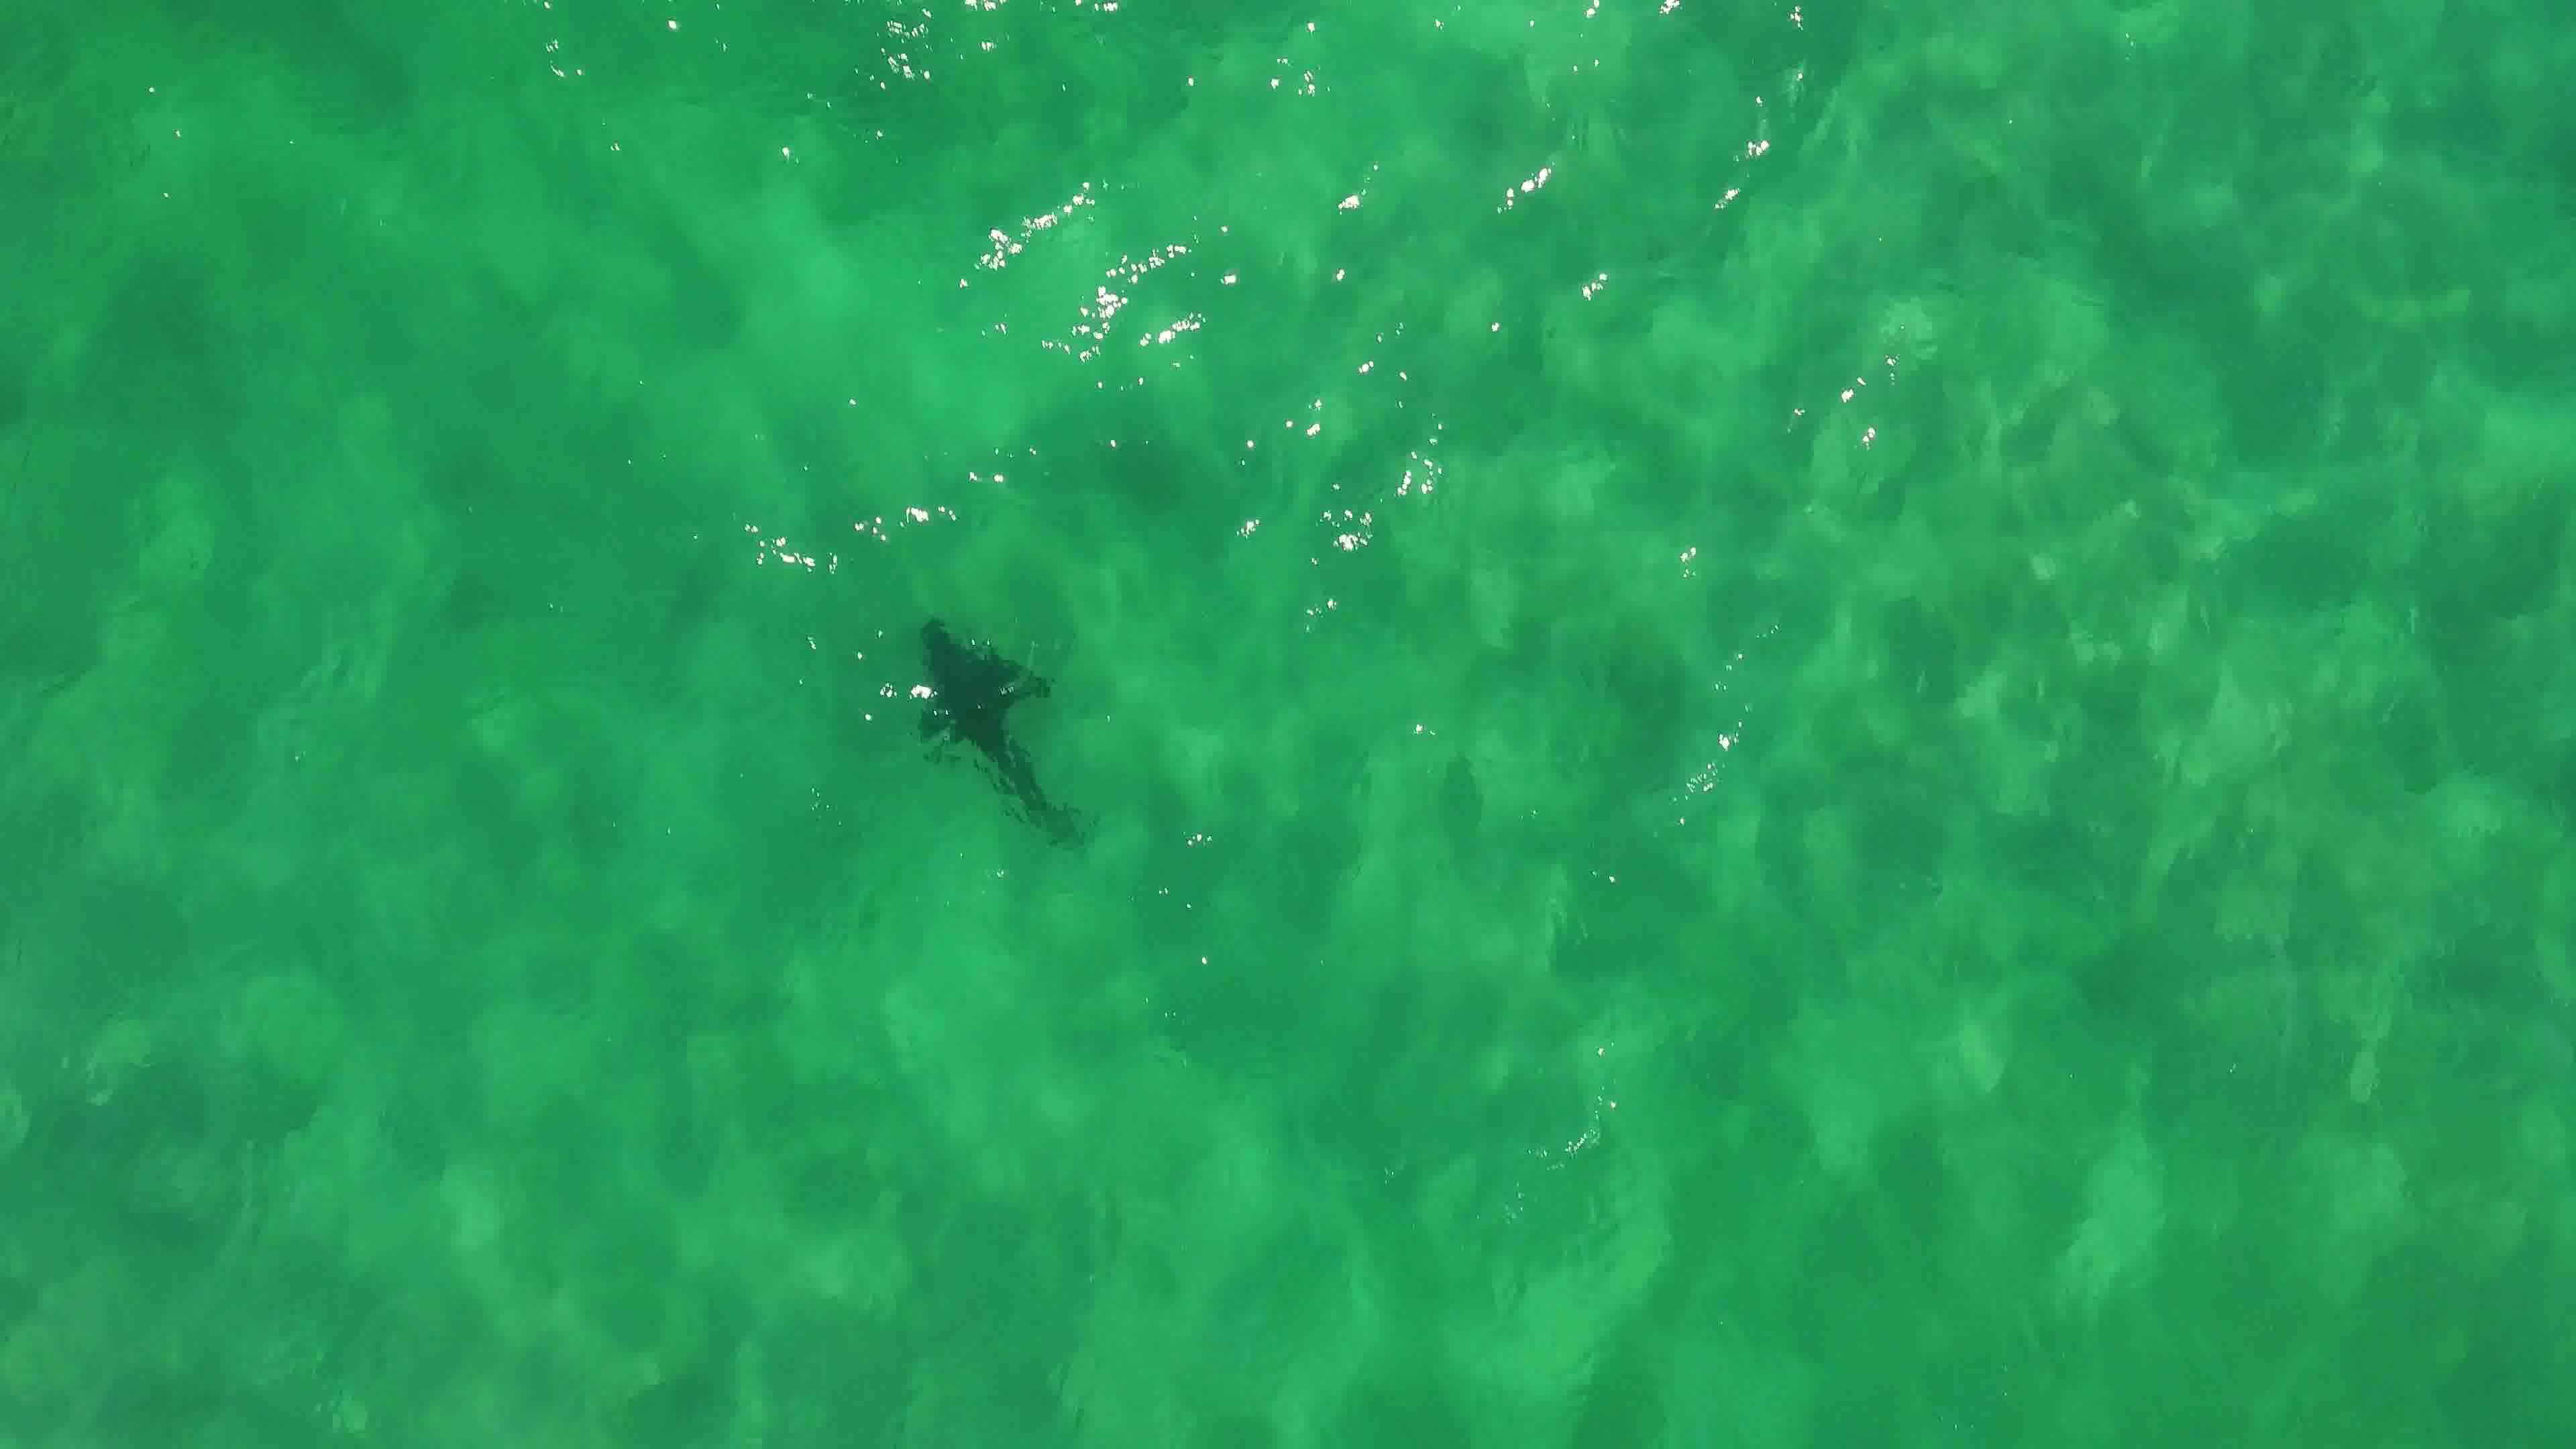shark: (908, 607, 1086, 844)
